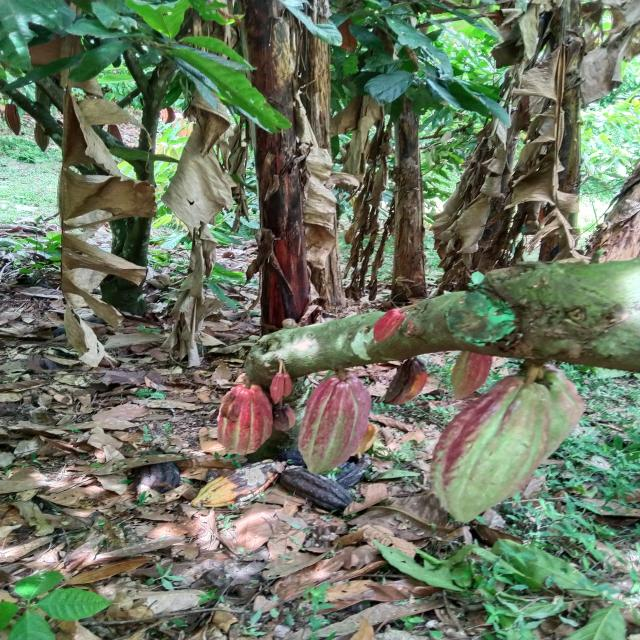Fitoftora: (217, 387, 273, 452), (282, 469, 360, 512), (385, 358, 427, 406)
Monilia: (190, 460, 284, 507)
Sana: (432, 377, 549, 523), (297, 372, 371, 475), (536, 366, 576, 454), (449, 349, 496, 399), (372, 307, 408, 345), (268, 373, 286, 404), (280, 374, 293, 396)
